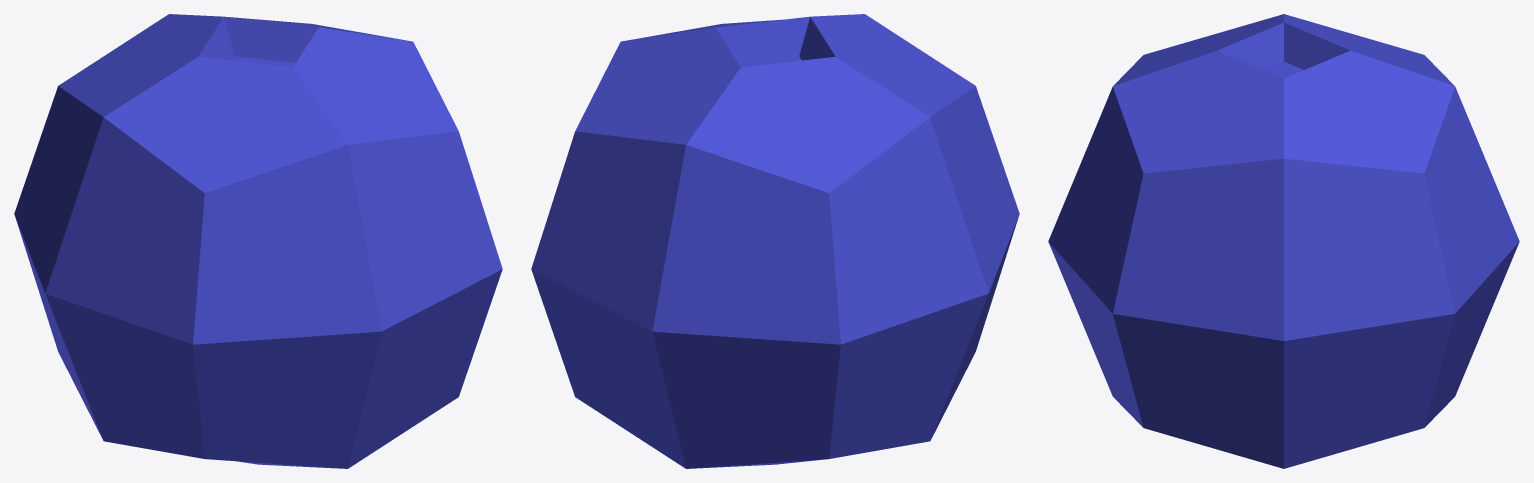
File: BlueBerryModel.fbx
The picture shows the model from 3 angles, left to right: view 1: azimuth 30°, elevation 25°; view 2: azimuth 150°, elevation 25°; view 3: azimuth 270°, elevation 25°; orthographic projection. The views are drawn at different scales.
Visible parts, largest first — view 1: BlueBerry; view 2: BlueBerry; view 3: BlueBerry.
Boxes of the visible parts, left/top/right/bottom form: BlueBerry: left=14, top=14, right=502, bottom=468; BlueBerry: left=531, top=14, right=1019, bottom=468; BlueBerry: left=1048, top=14, right=1519, bottom=468.
Bounding box in the file's own units: 420 × 397 × 420.
